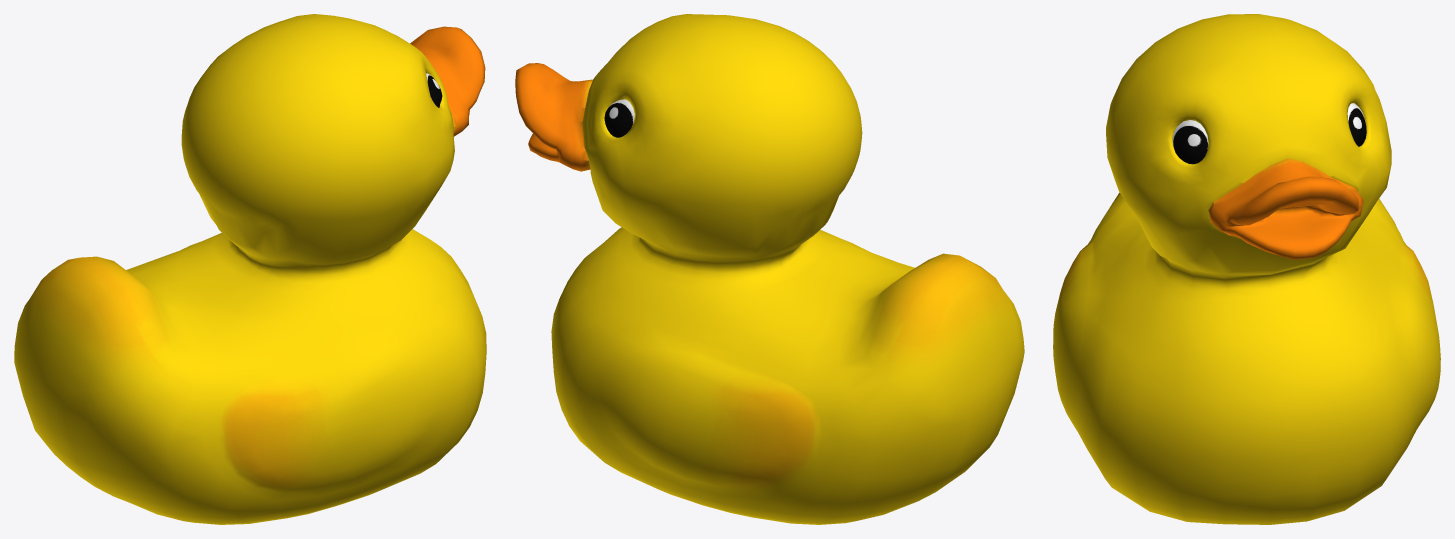
Rendered from Duck.glb.
The picture shows the model from 3 angles, left to right: view 1: azimuth 30°, elevation 25°; view 2: azimuth 150°, elevation 25°; view 3: azimuth 270°, elevation 25°; orthographic projection. The views are drawn at different scales.
Visible parts, largest first — view 1: LOD3spShape; view 2: LOD3spShape; view 3: LOD3spShape.
Part boxes in pixels (x1,y1,x2,y2): LOD3spShape: (14, 14, 486, 524); LOD3spShape: (515, 14, 1024, 524); LOD3spShape: (1053, 14, 1440, 524).
Bounding box in the file's own units: 1.65 × 1.48 × 1.15.
Materials: 1 (1 with a texture image).
